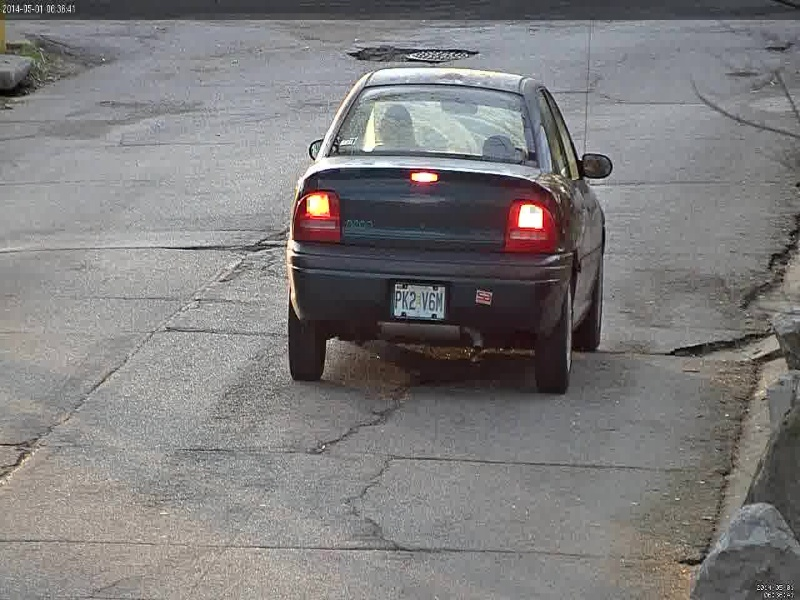licence plate: (391, 280, 448, 322)
